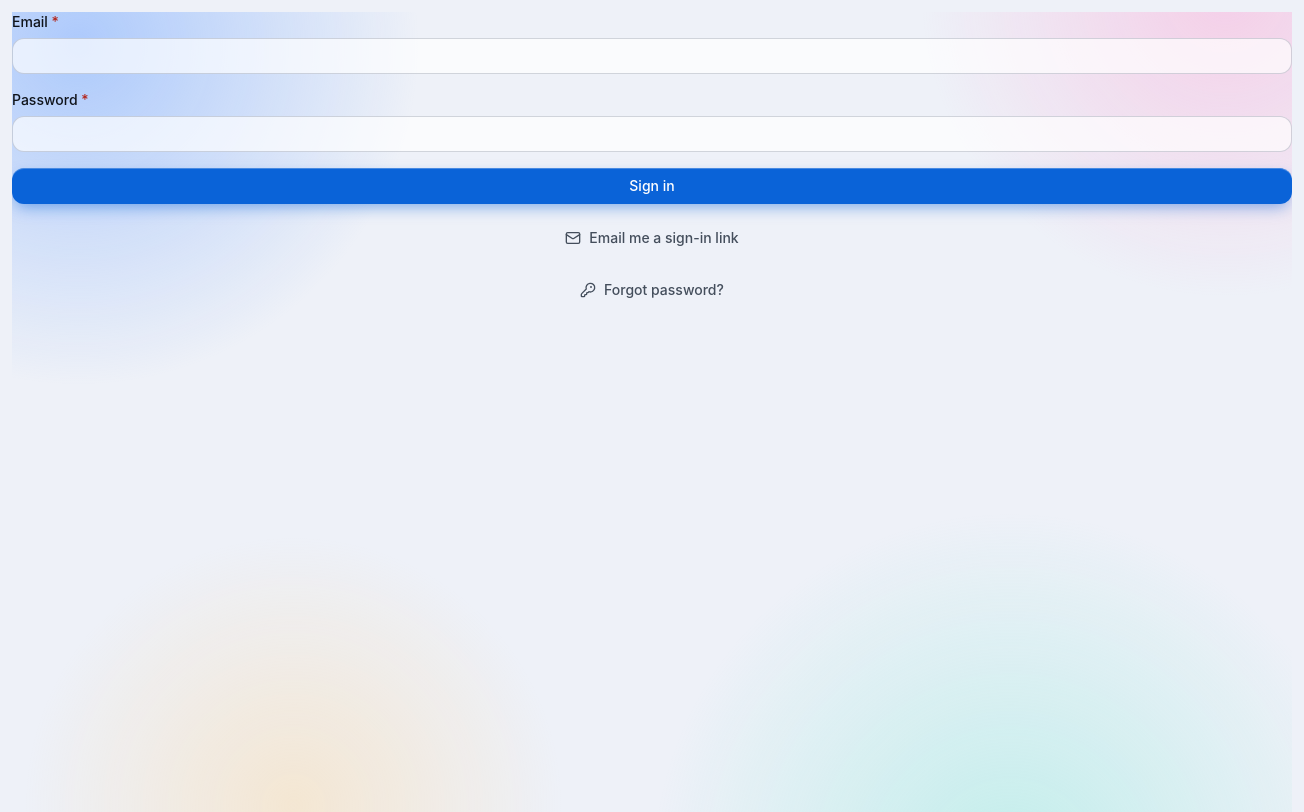
Test: password recovery forms › sends a reset link without revealing whether the account exists
The image size is (1304, 812).
Click the button "Forgot password?" at (652,290), box [12,272,1292,308]
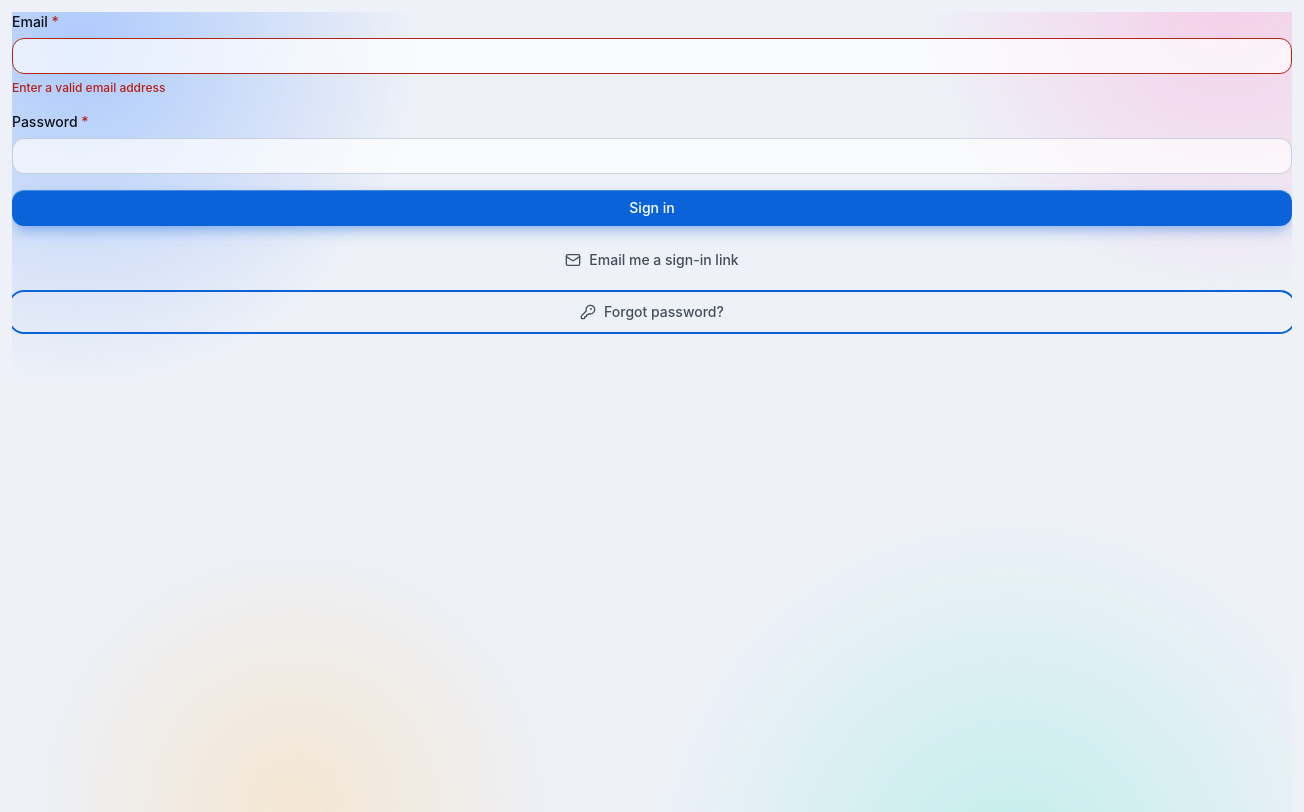
Type "me@example.org" into the field labelled "Email *" at (652,56), box [12,38,1292,74]
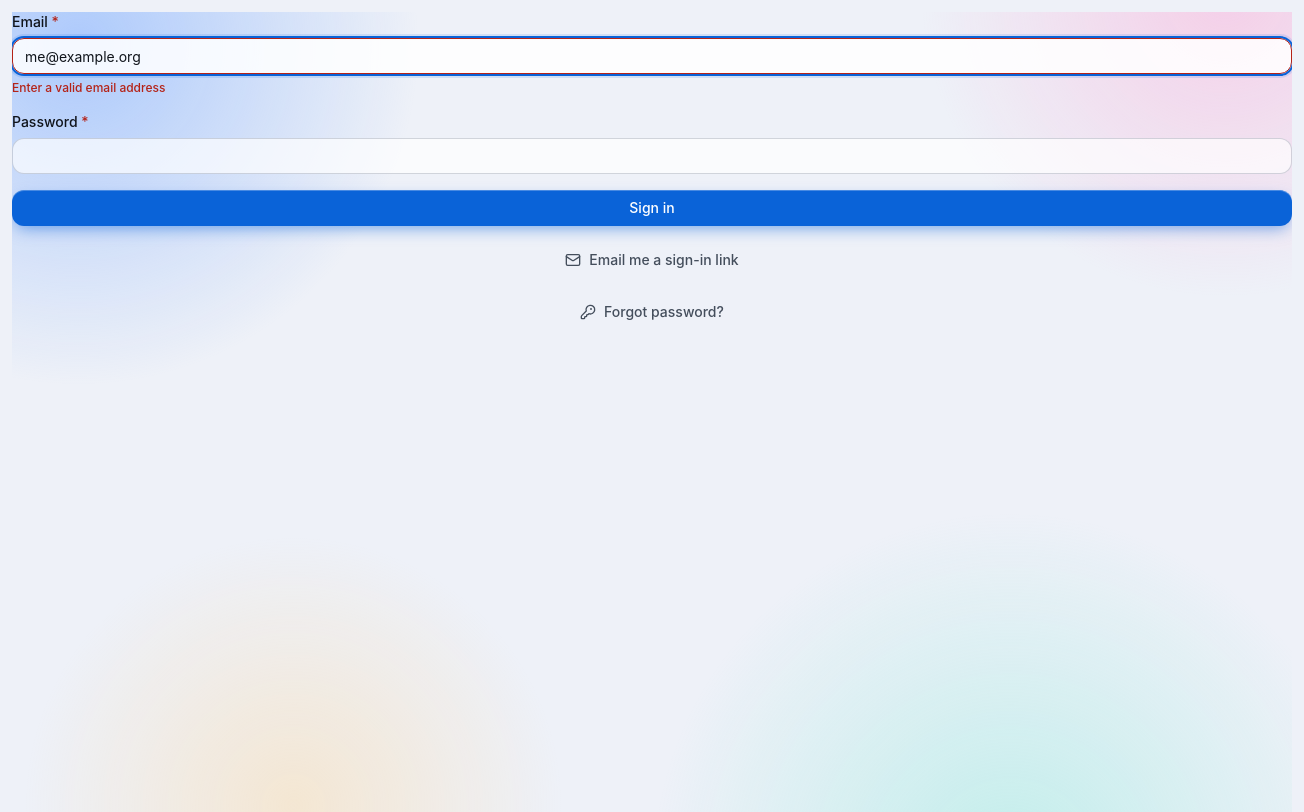
Click the button "Forgot password?" at (652,312), box [12,294,1292,330]
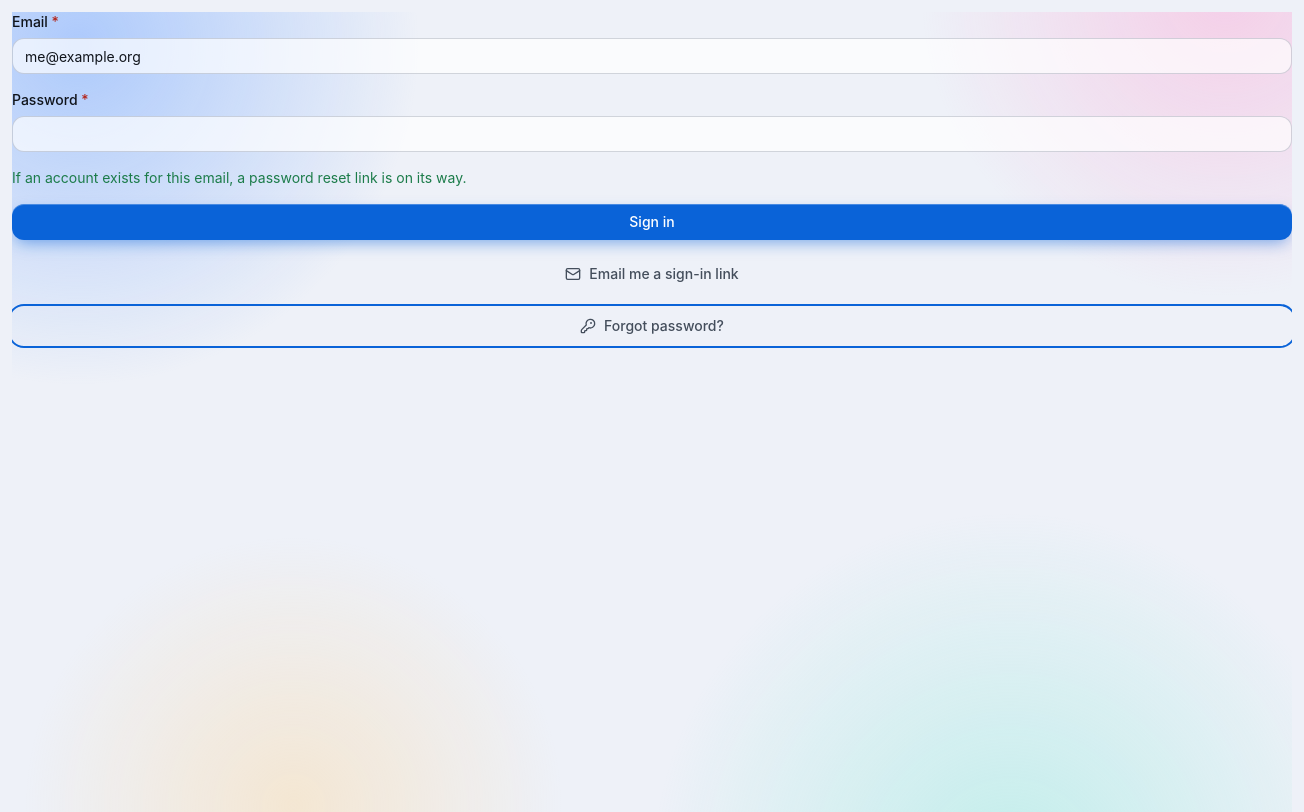
Result: the message shows "If an account exists for this email" at [12,169,466,186]
